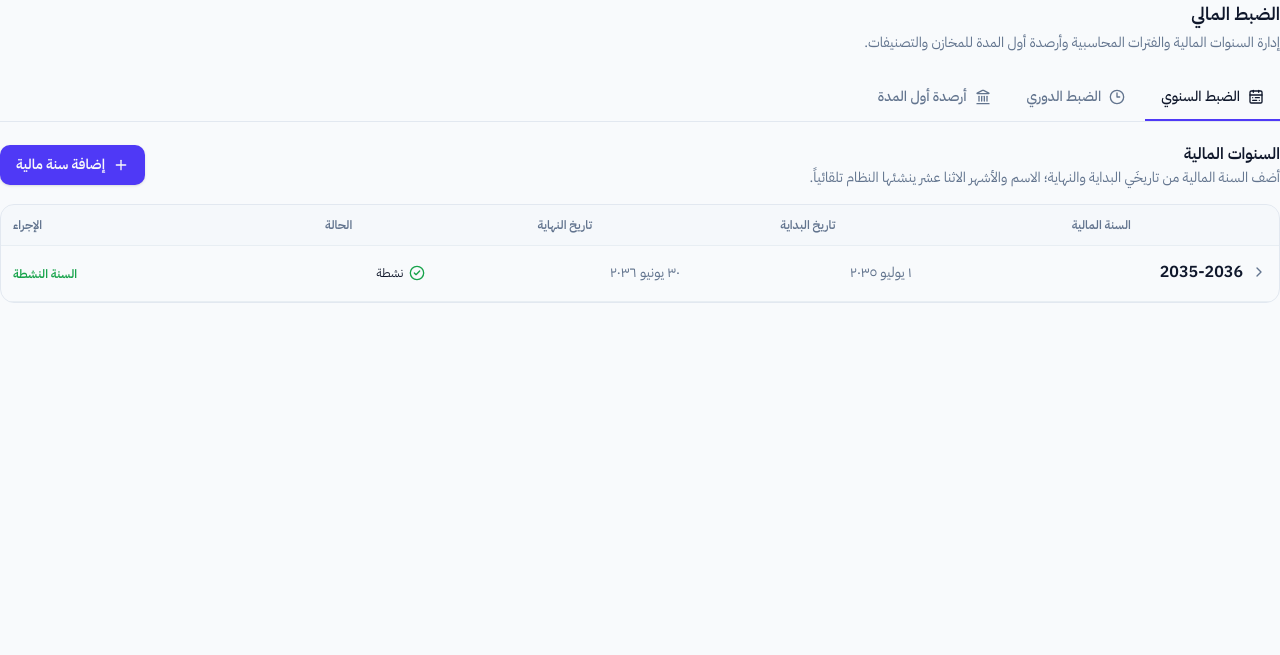
it: FiscalSettings › requires a reason for a closed month and keeps the dialog open on refusal
This screenshot has width=1280, height=655.
Click the tab "الضبط الدوري" at (1076, 98), box [1011,75,1141,121]
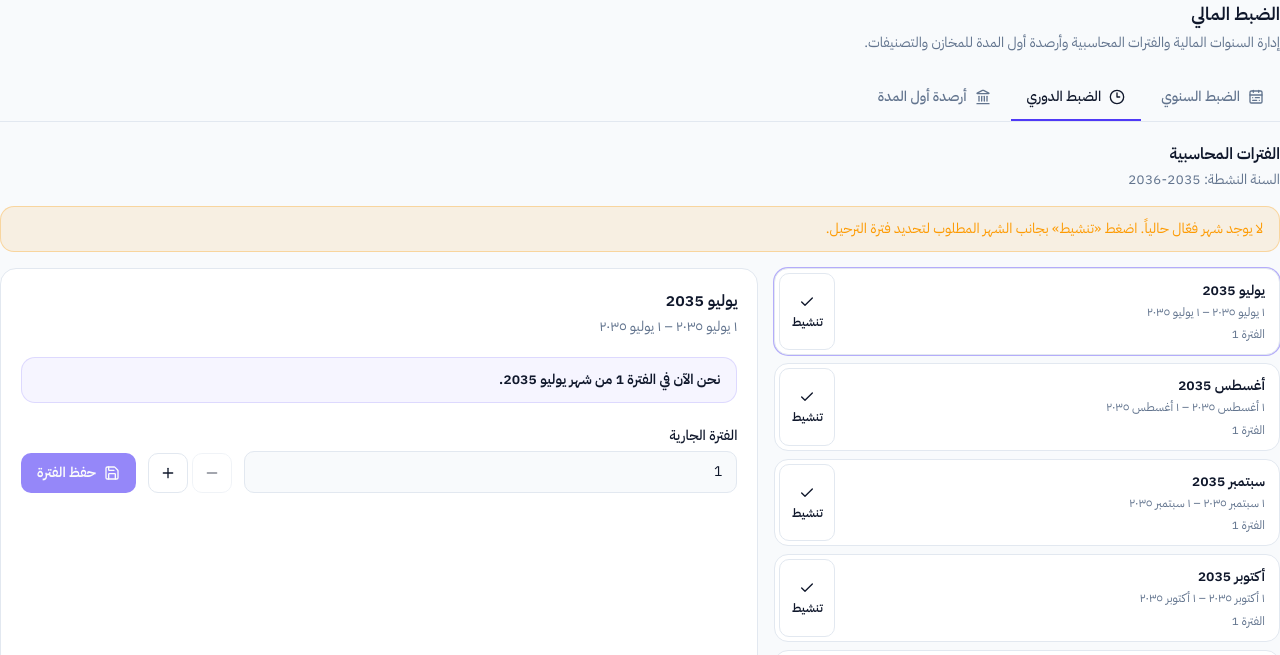
Click the button with aria-label "تنشيط شهر أغسطس 2035" at (807, 407), box [779,368,835,446]
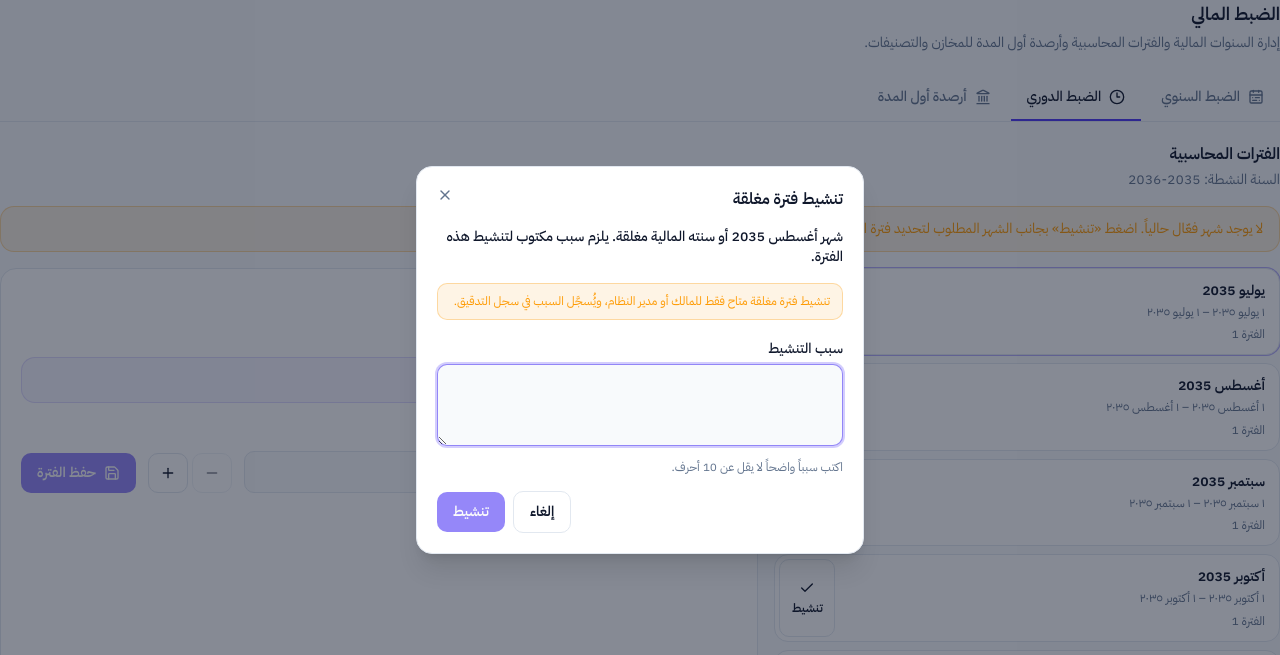
Expected: the button "تنشيط" is disabled, [437,492,505,532]
Type "قصير" into the text box labelled "سبب التنشيط" at (640, 405), box [437,364,843,446]
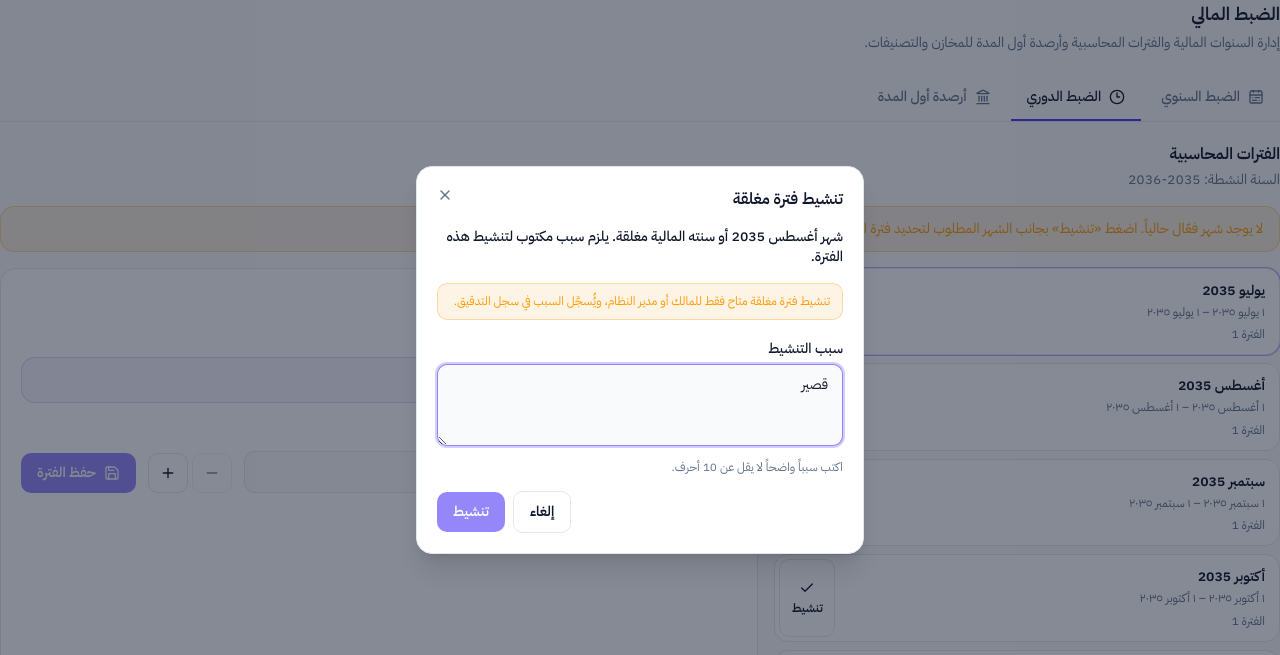
Expected: the button "تنشيط" is disabled, [437,492,505,532]
Replace the text in the text box labelled "سبب التنشيط" with "  اعتماد متأخر بموافقة المالك  " at (640, 405), box [437,364,843,446]
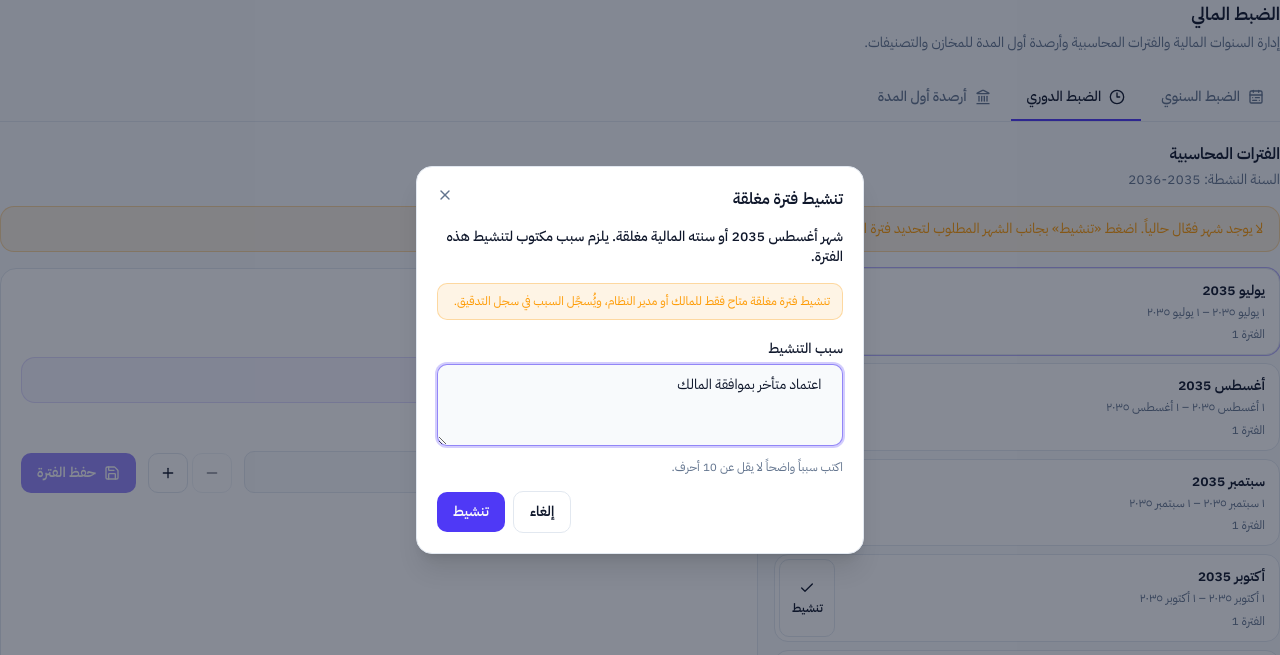
Expected: the button "تنشيط" is enabled
Click the button "تنشيط" at (471, 512), box [437,492,505,532]
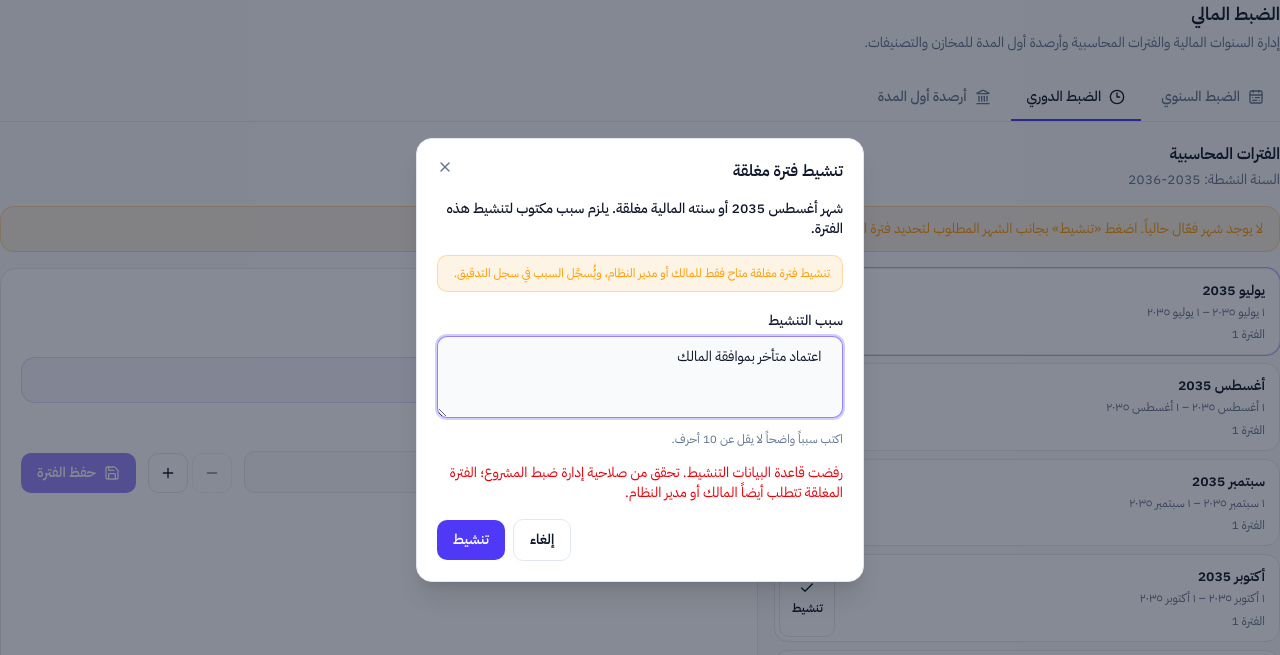
Expected: the text "تم تنشيط الشهر ليصبح فترة الترحيل للمشروع." is not shown
Expected: the message is shown, [437,463,843,503]
Click the button "تنشيط" at (471, 540), box [437,520,505,560]
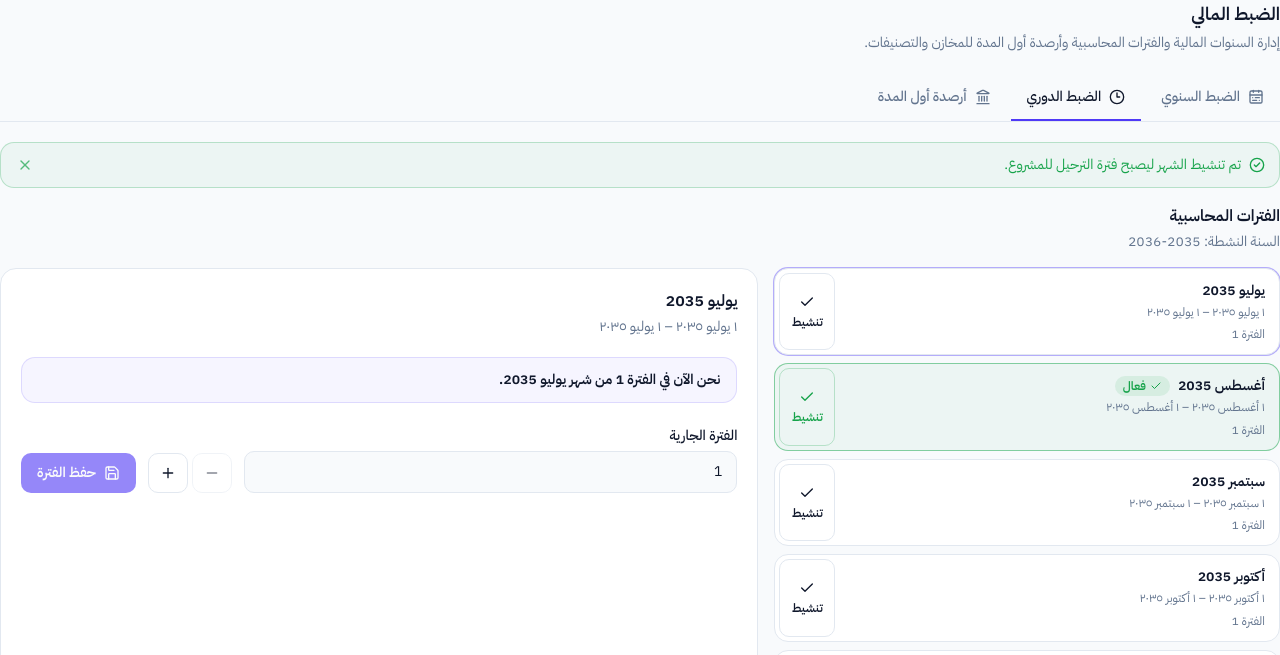
Expected: the dialog is gone
